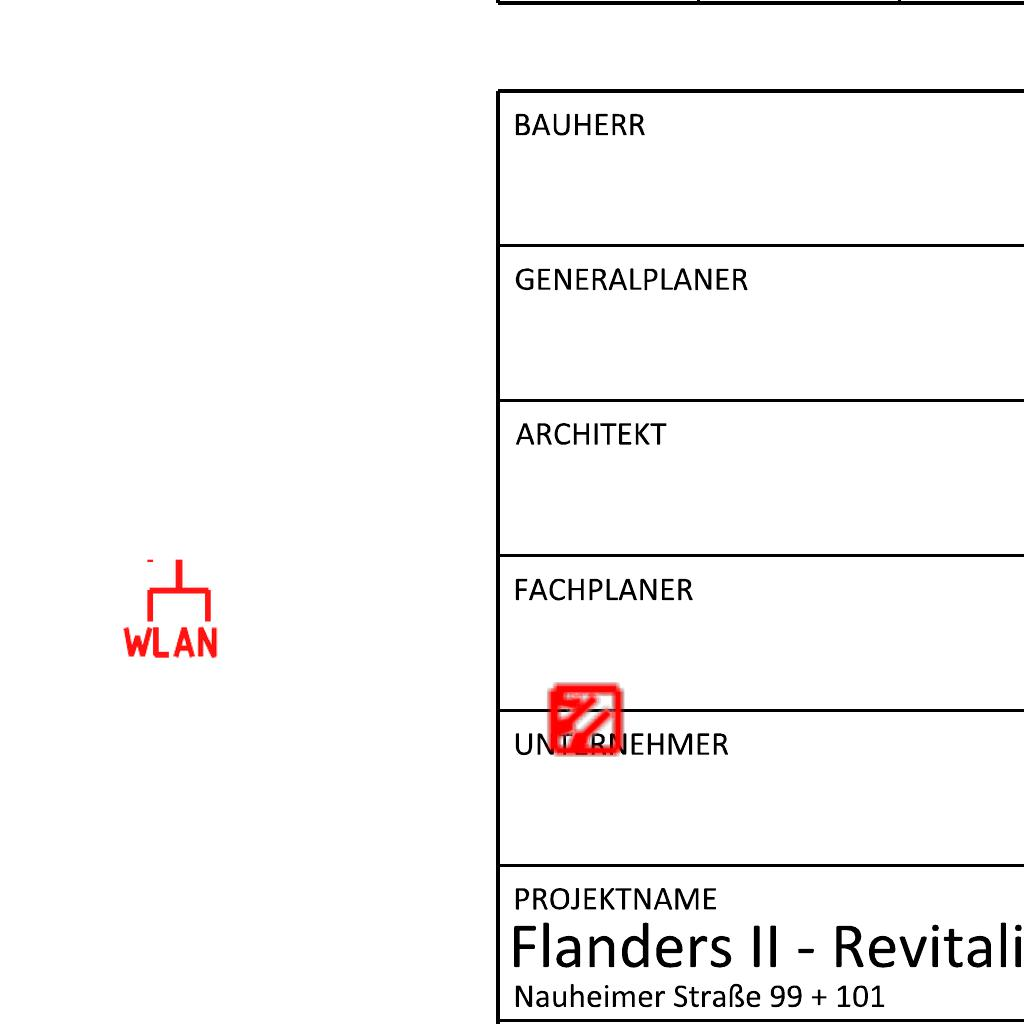OT_Multisensormelder_(Kombination_RMO_WMD): (527, 663, 640, 776)
WLAN: (118, 555, 222, 660)
